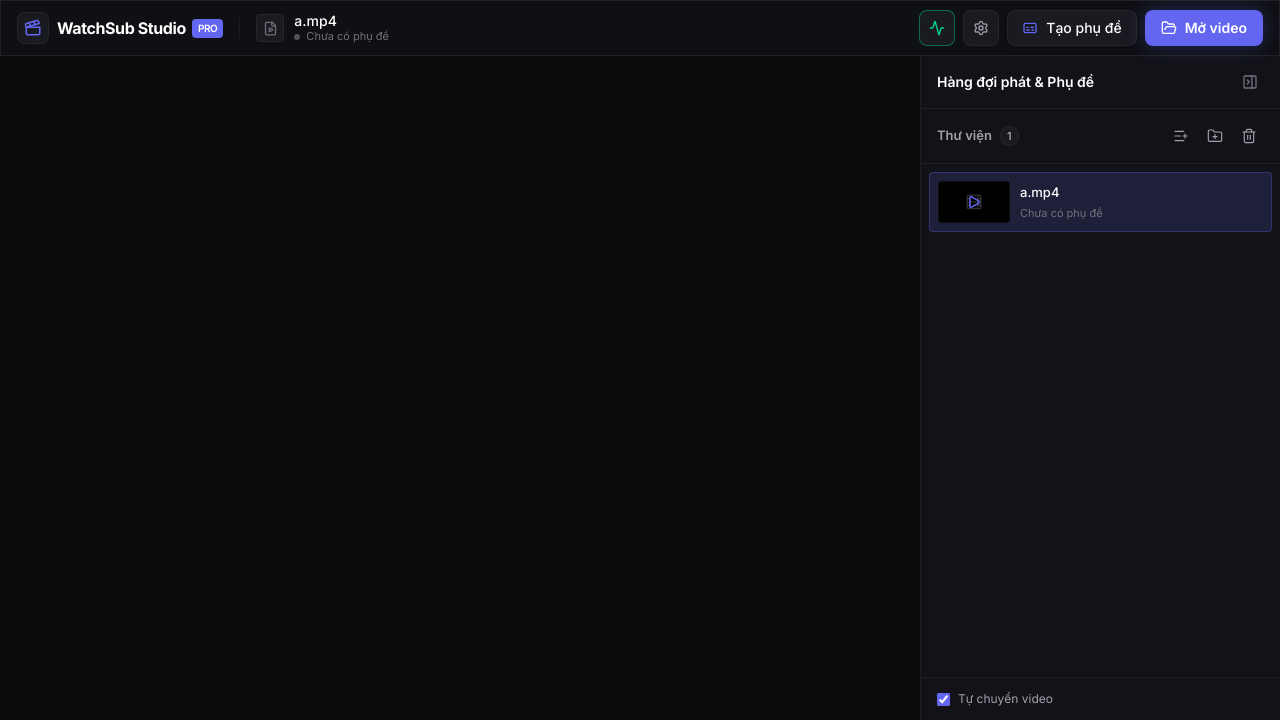
Test: App › does not re-add a Video after clearing the queue during its cache lookup
Click the button with class "open-button" at (1204, 28), box [1145,10,1263,46]
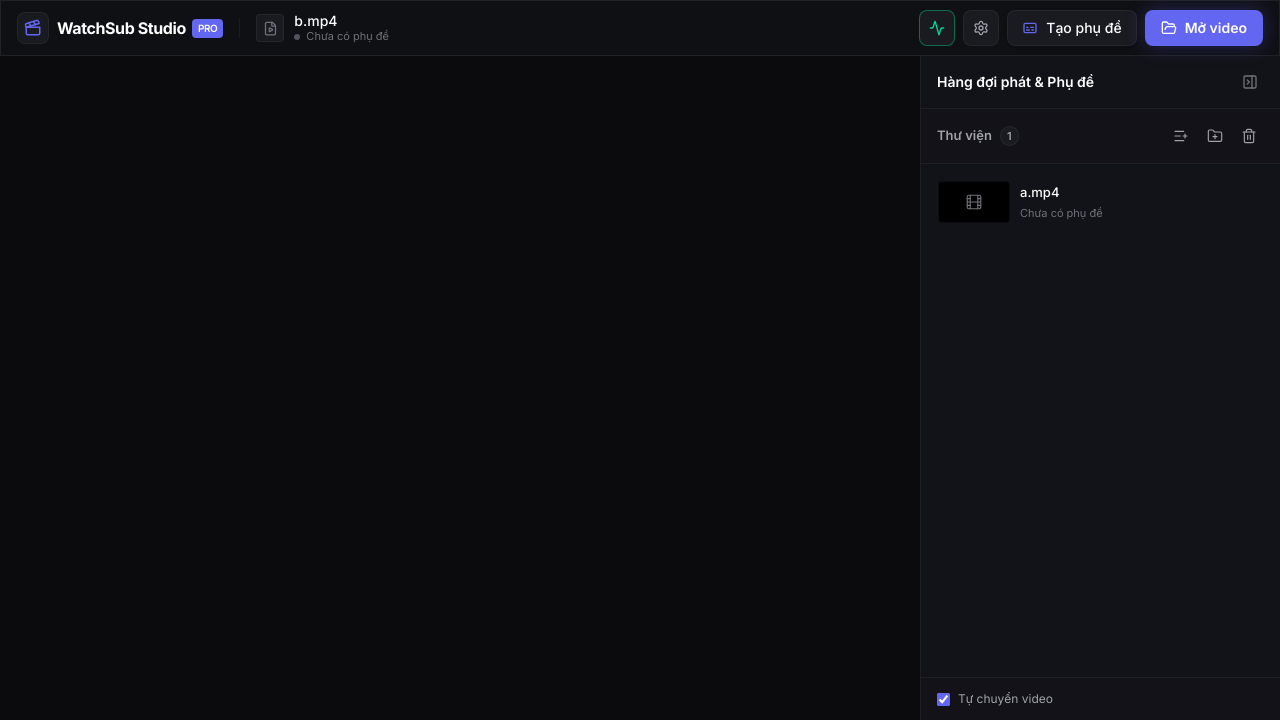
Click the button named "Xóa tất cả video khỏi hàng đợi phát" at (1249, 136), box [1234,121,1264,151]
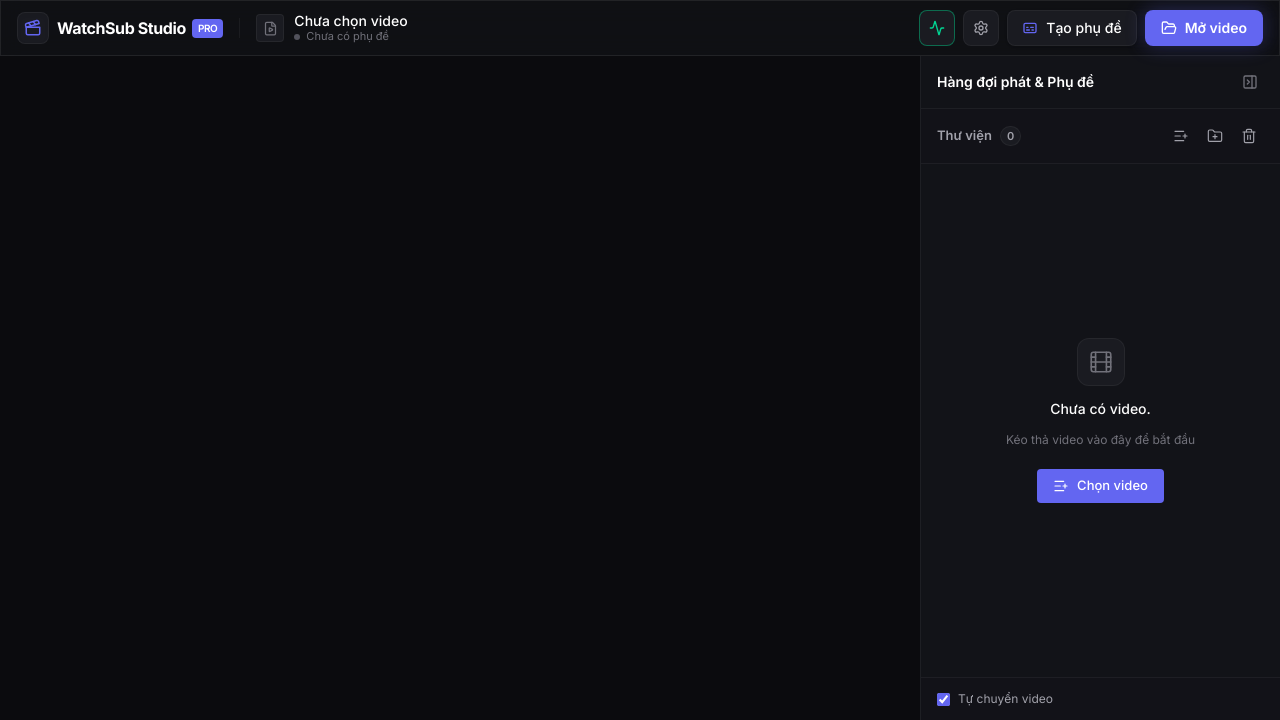
Expected: no list items are shown
